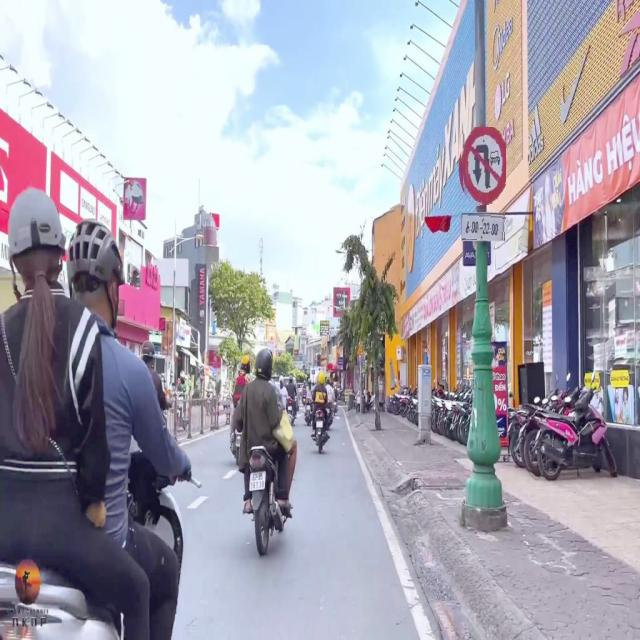cam_o_to_quay_dau_xe: (459, 127, 506, 207)
khac: (462, 213, 506, 240)
